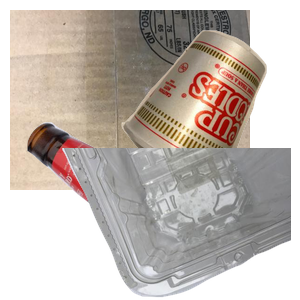cardboard: (10, 10, 250, 190)
glass: (25, 120, 265, 300)
plastic: (60, 148, 300, 300)
trash: (119, 28, 300, 207)
